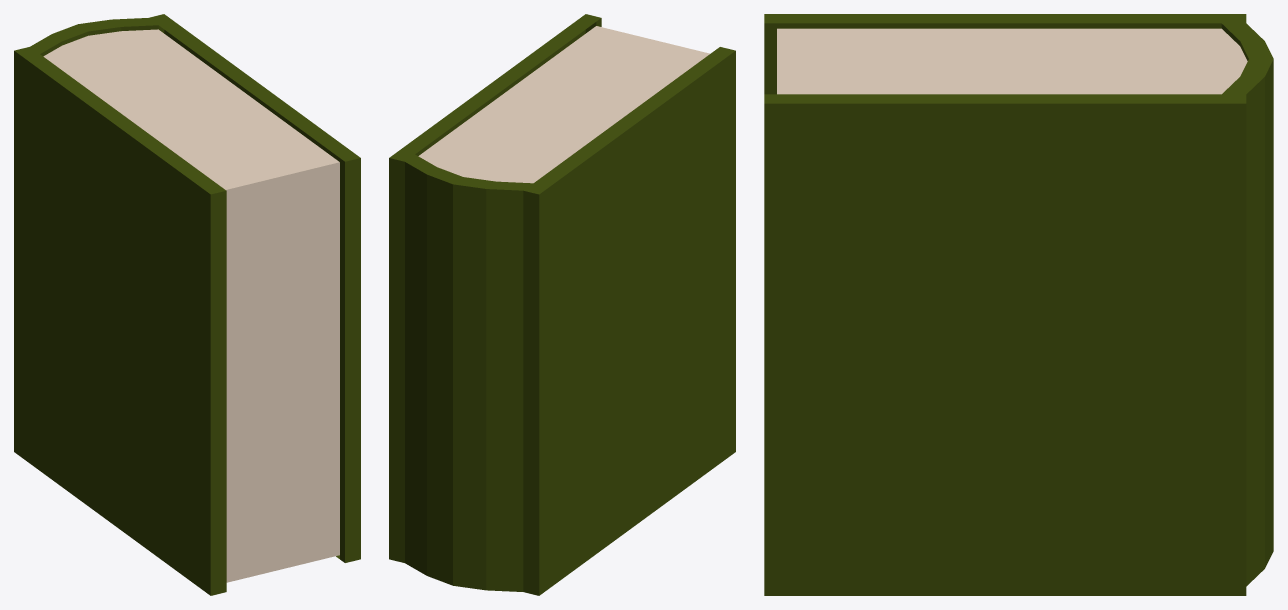
File: livro5.fbx
The picture shows the model from 3 angles, left to right: view 1: azimuth 30°, elevation 25°; view 2: azimuth 150°, elevation 25°; view 3: azimuth 270°, elevation 25°; orthographic projection. The views are drawn at different scales.
Visible parts, largest first — view 1: Cube; view 2: Cube; view 3: Cube.
Part boxes in pixels (box(x1,y1,x2,y2)): Cube: box(14, 14, 360, 595); Cube: box(389, 14, 735, 595); Cube: box(764, 14, 1273, 595).
Size of the model in its own units: 58.16 by 149 by 139.
